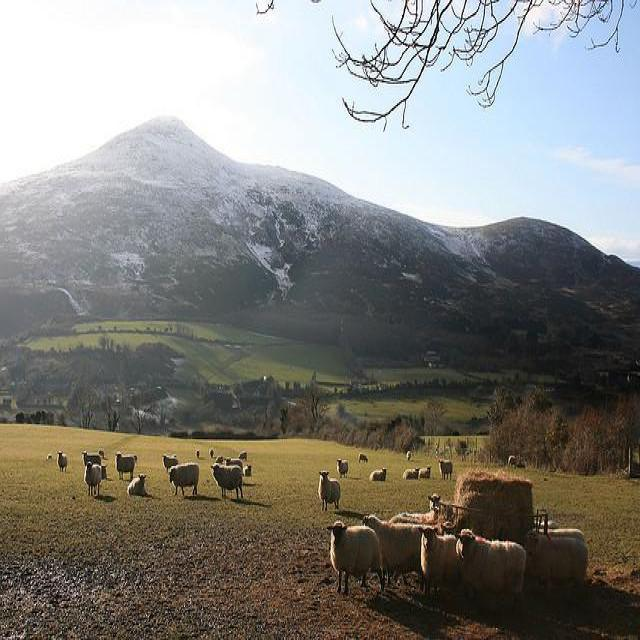Sheep: (42, 444, 583, 553), (362, 516, 433, 590), (327, 520, 384, 595), (461, 530, 527, 594), (525, 536, 587, 596), (418, 526, 457, 603)
